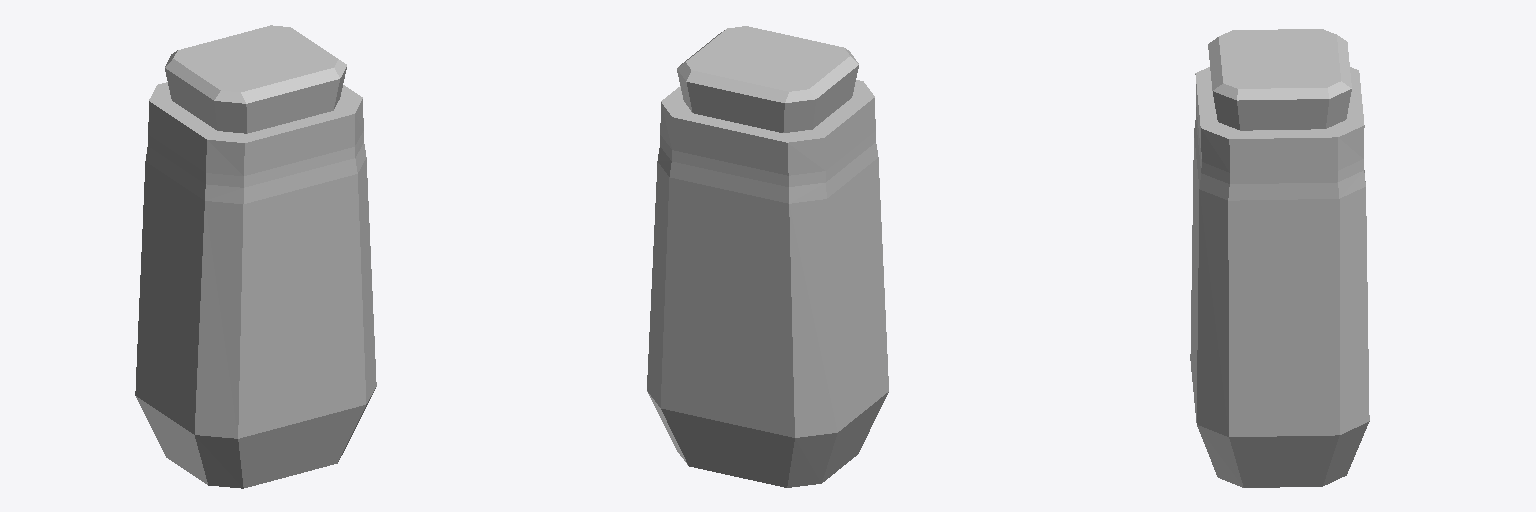
File: SmallBottle.obj
3 renders of one model, left to right at view 1: azimuth 30°, elevation 25°; view 2: azimuth 150°, elevation 25°; view 3: azimuth 270°, elevation 25°, orthographic.
Visible parts, largest first — view 1: SmallBottle_Cube.001; view 2: SmallBottle_Cube.001; view 3: SmallBottle_Cube.001.
Boxes of the visible parts, box(x1,y1,x2,y2) form: SmallBottle_Cube.001: box(135, 25, 376, 488); SmallBottle_Cube.001: box(647, 26, 888, 487); SmallBottle_Cube.001: box(1190, 29, 1369, 487).
Bounding box in the file's own units: 0.0604 × 0.1195 × 0.0492.